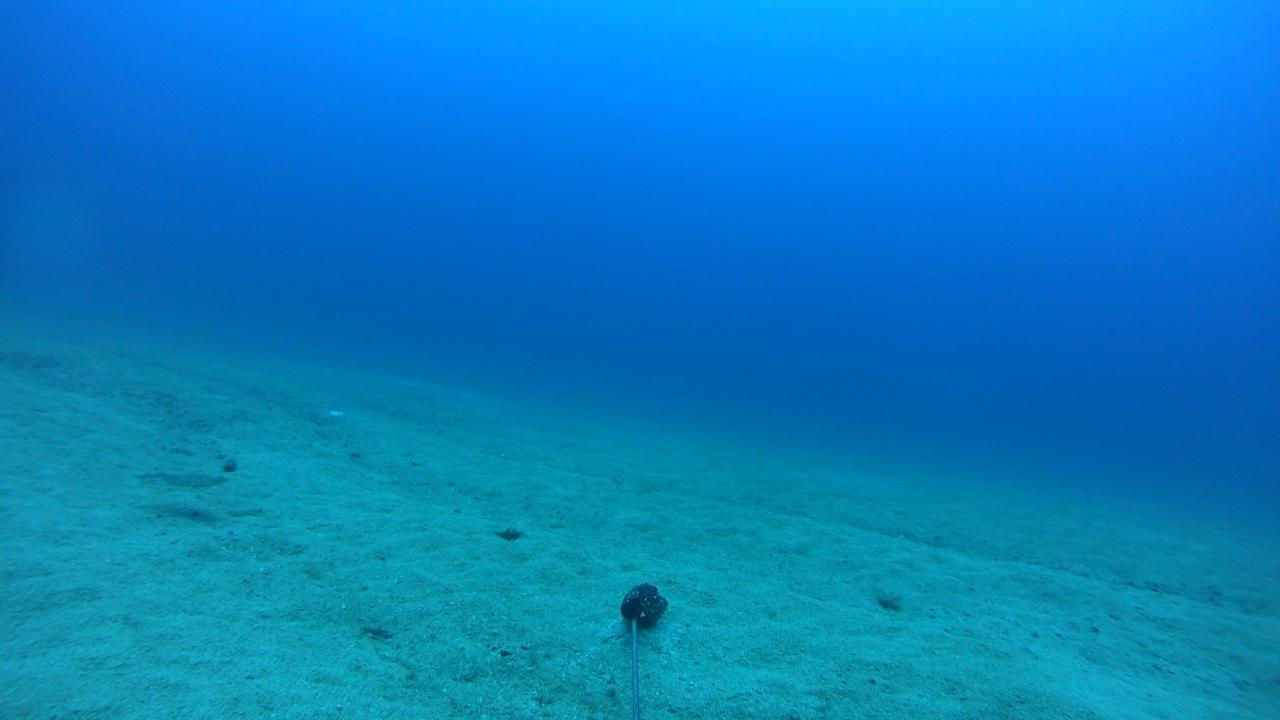bothus: (128, 464, 229, 492)
